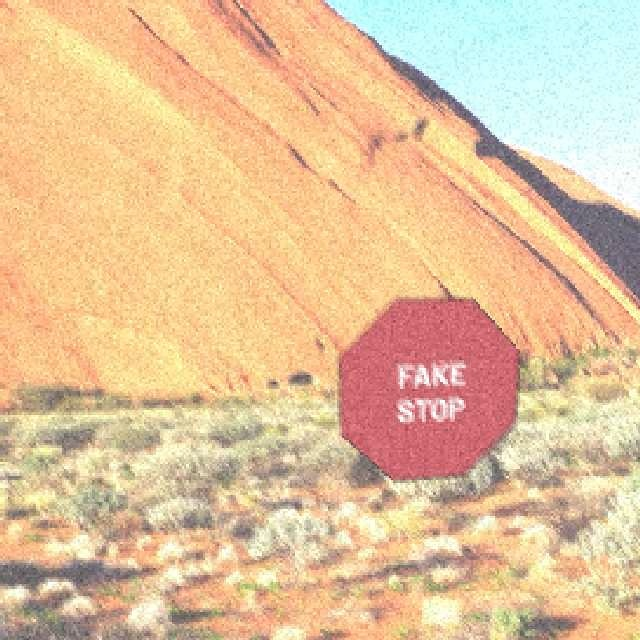FAKE_STOP: (336, 297, 519, 481)
